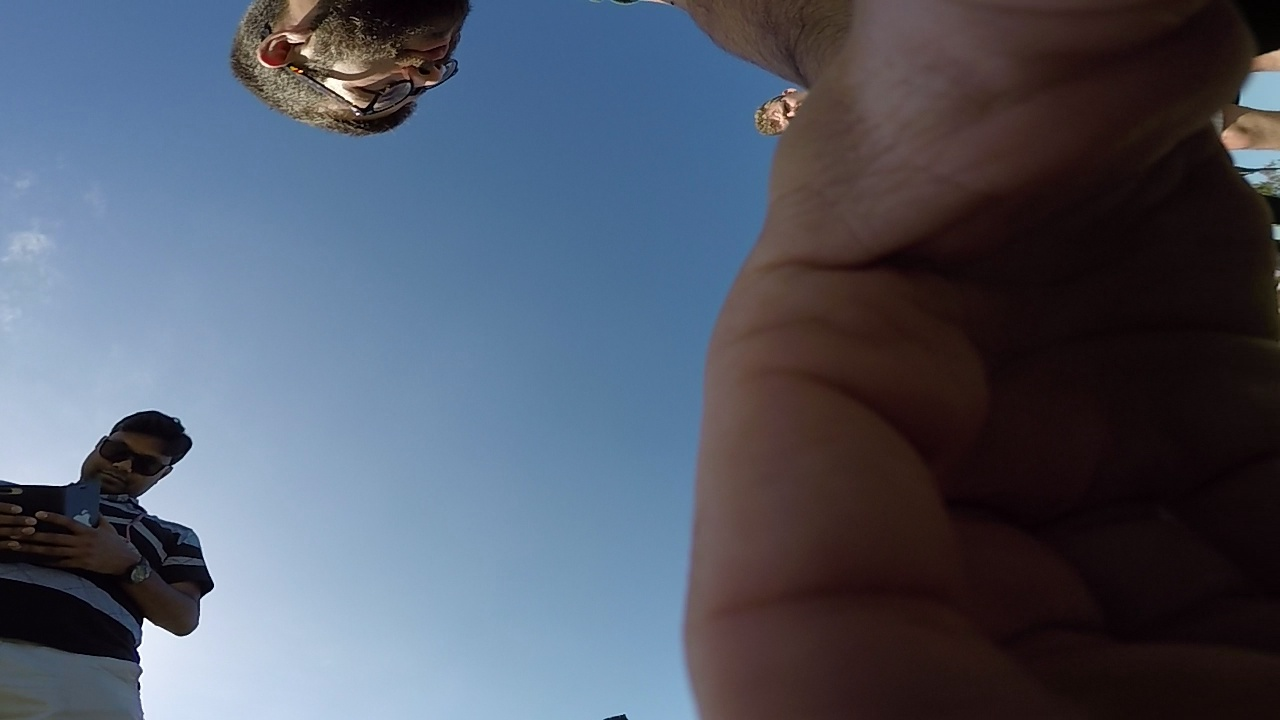person: (659, 25, 1273, 667), (2, 407, 208, 710)
